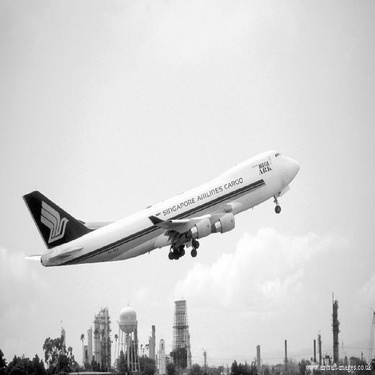airplane: (20, 140, 306, 270)
